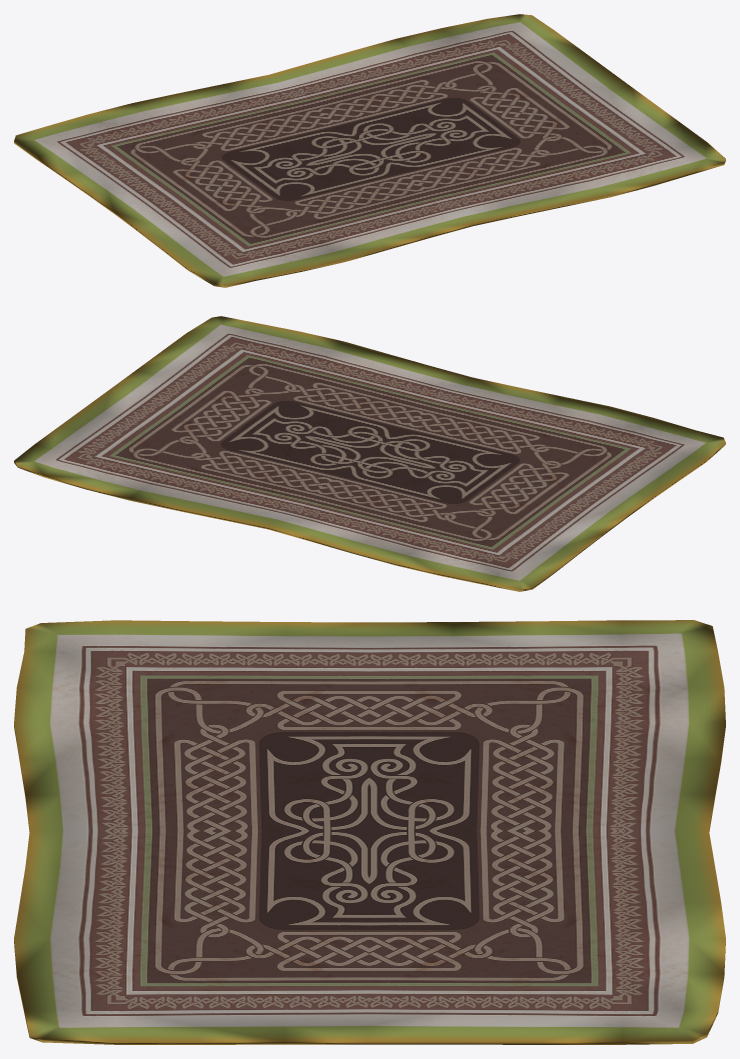
The model's file is sb_obj_indoor010_Rug01.fbx.
3 views of the same model, one above another, from view 1: azimuth 30°, elevation 25°; view 2: azimuth 150°, elevation 25°; view 3: azimuth 270°, elevation 25° (orthographic). The views are drawn at different scales.
Parts seen in each view (by area): view 1: sb_obj_indoor010_Rug01; view 2: sb_obj_indoor010_Rug01; view 3: sb_obj_indoor010_Rug01.
Boxes of the visible parts, <box> form: sb_obj_indoor010_Rug01: <box>14,14,725,287</box>; sb_obj_indoor010_Rug01: <box>14,316,725,591</box>; sb_obj_indoor010_Rug01: <box>14,620,725,1044</box>.
Bounding box in the file's own units: 2.67 × 0.01 × 1.91.
